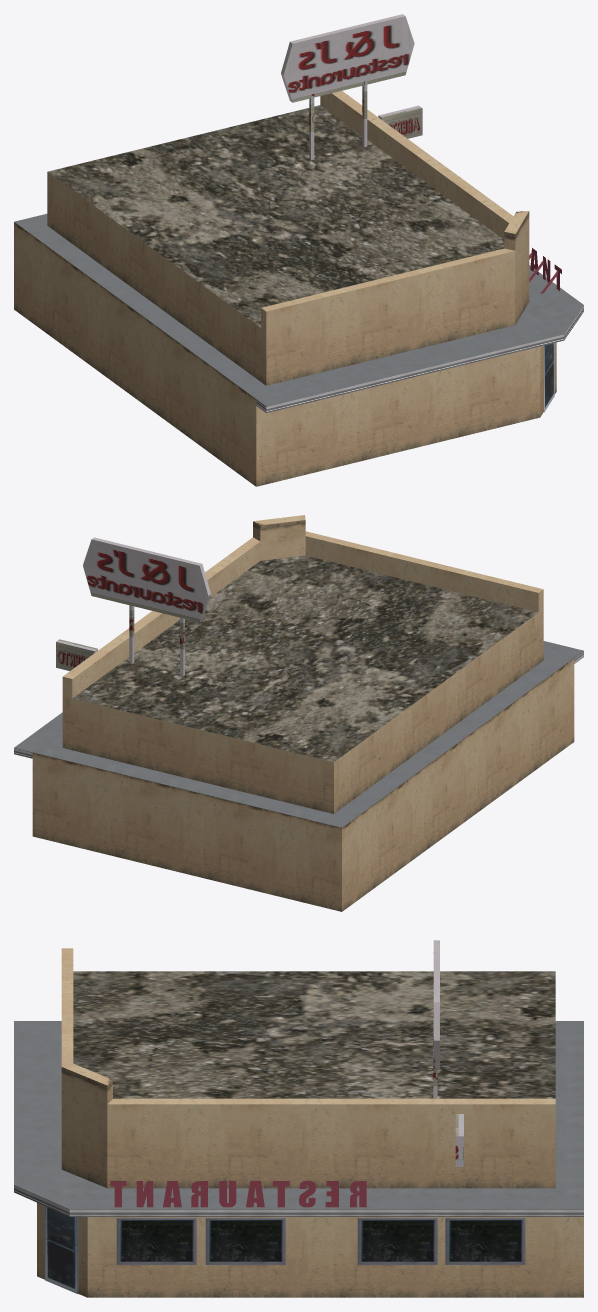
The model's file is cuntw_restrnt1.obj.
3 views of the same model, one above another, from view 1: azimuth 30°, elevation 25°; view 2: azimuth 150°, elevation 25°; view 3: azimuth 270°, elevation 25° (orthographic). The views are drawn at different scales.
Parts seen in each view (by area): view 1: cuntw_restrnt1; view 2: cuntw_restrnt1; view 3: cuntw_restrnt1.
Boxes of the visible parts, x1,y1,x2,y2 form: cuntw_restrnt1: (14, 14, 583, 486); cuntw_restrnt1: (14, 515, 583, 911); cuntw_restrnt1: (14, 940, 583, 1297).
Bounding box in the file's own units: 10.89 × 7.78 × 13.55.
8 materials, 8 textured.
